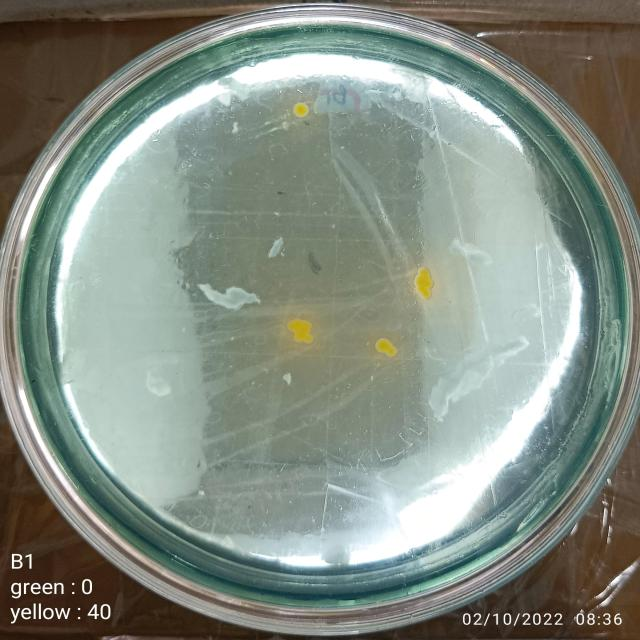yellow: (287, 318, 313, 344), (415, 267, 434, 300), (375, 338, 398, 357), (293, 102, 309, 118)
